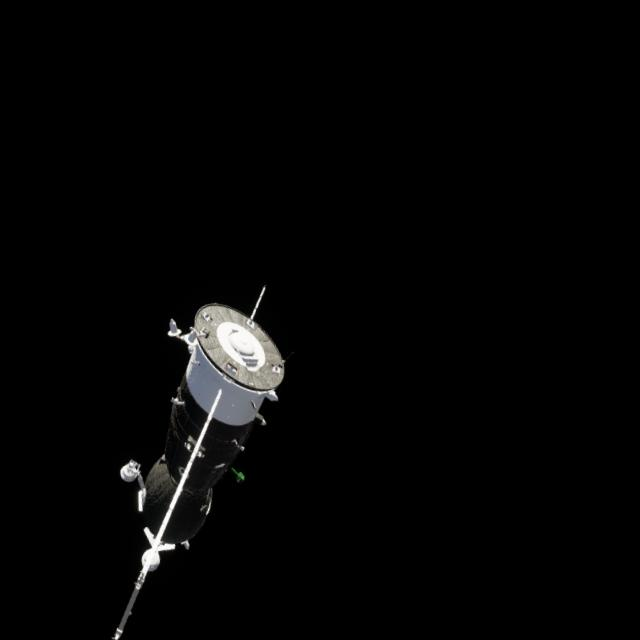Satellites revolving around earth: (48, 281, 333, 640)
